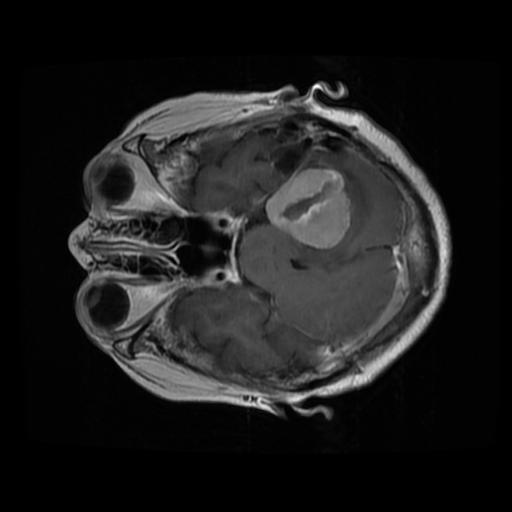meningioma: (264, 167, 351, 248)
